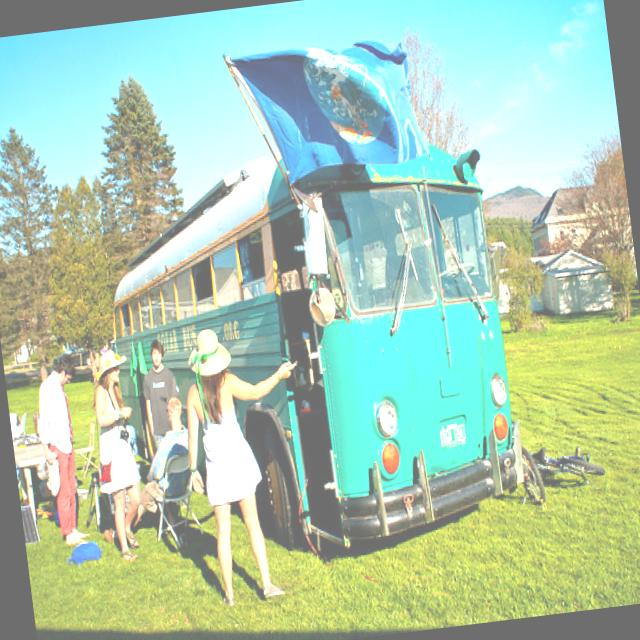Vehicle: (93, 128, 529, 573)
